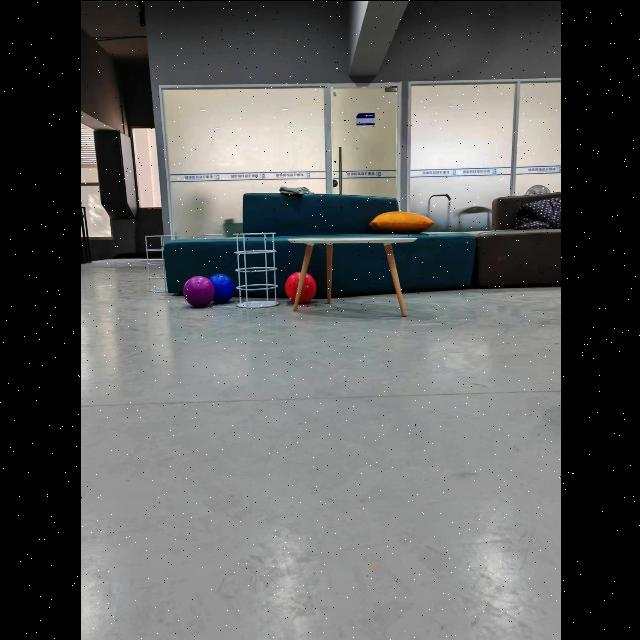B: (209, 272, 234, 302)
P: (182, 275, 214, 306)
R: (284, 270, 316, 302)
S: (234, 231, 278, 308), (144, 234, 176, 291)
